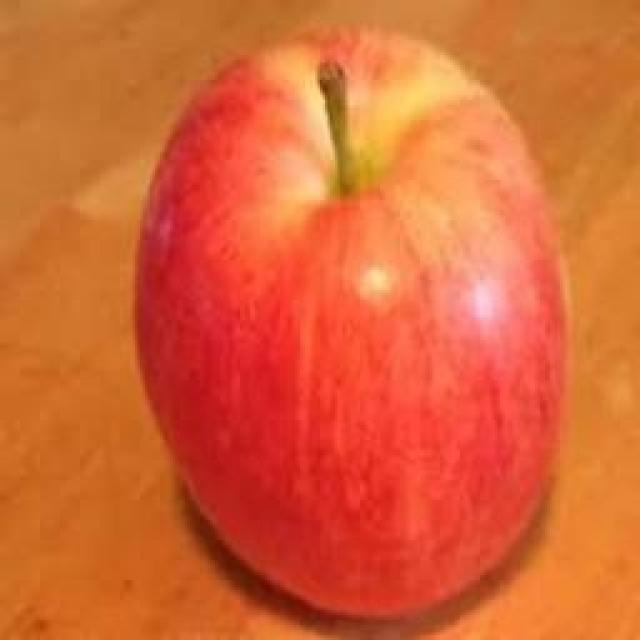Apple: (138, 29, 564, 618)
